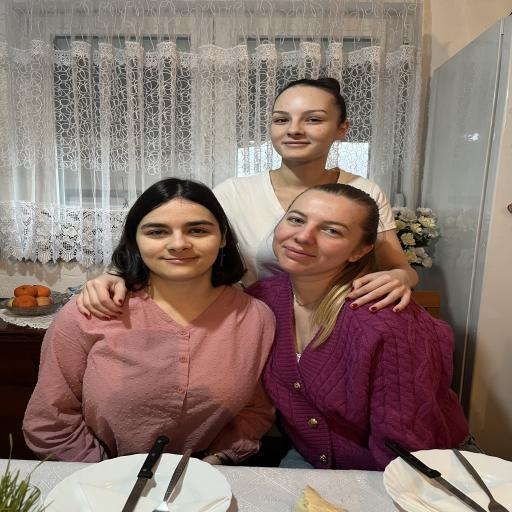marija: (274, 88, 342, 160)
